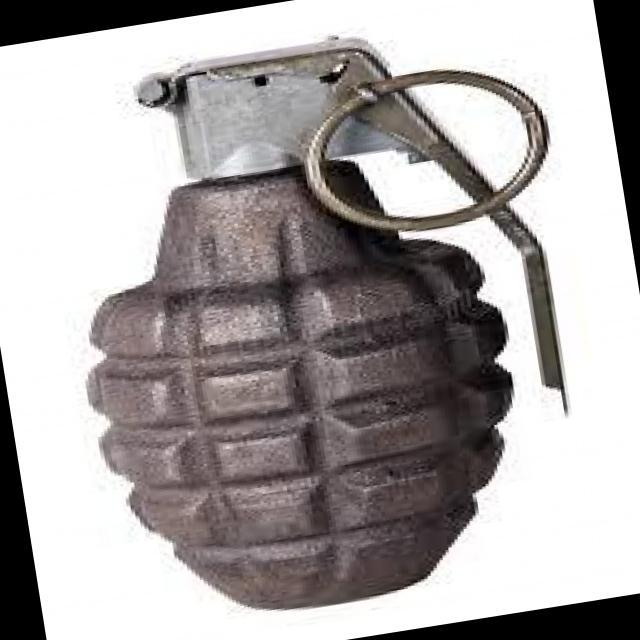grenade: (24, 0, 612, 640)
